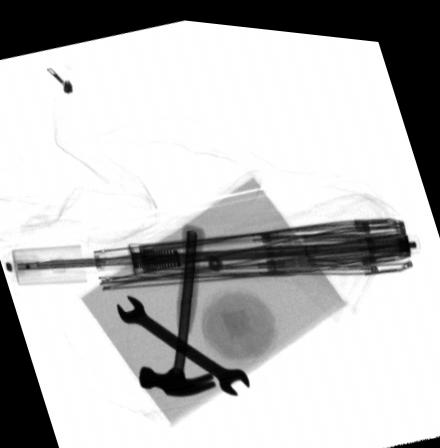Hammer: (138, 219, 216, 393)
Wrench: (117, 291, 250, 390)
